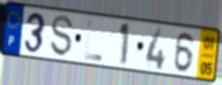1: (118, 22, 132, 67)
3: (22, 10, 50, 56)
4: (143, 26, 168, 73)
6: (173, 31, 197, 74)
L: (83, 19, 103, 63)
S: (49, 14, 74, 59)
